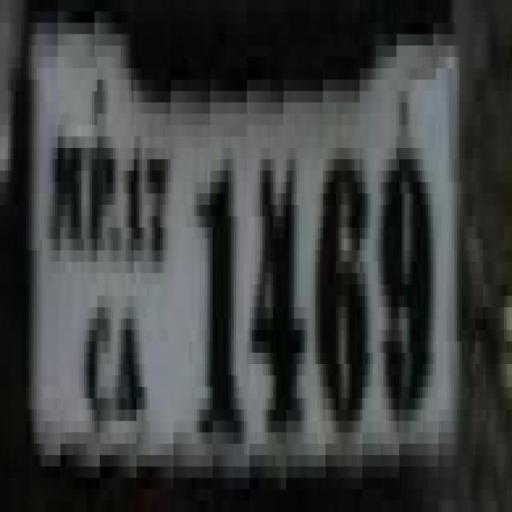number plate: (18, 11, 470, 512)
